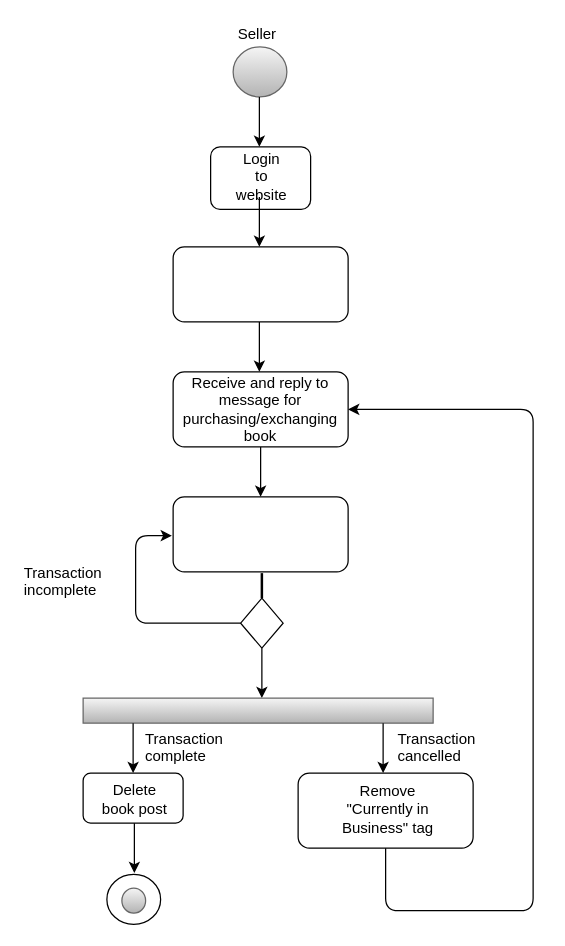
Image size: 565x946. Some labels were removed from this diagram. Here are the shapes that lost their labels. From the top down, the centre of each, then its label:
(260,284): Post book online for sale/exchange
(260,534): Tag book post with "Currently in Business"
